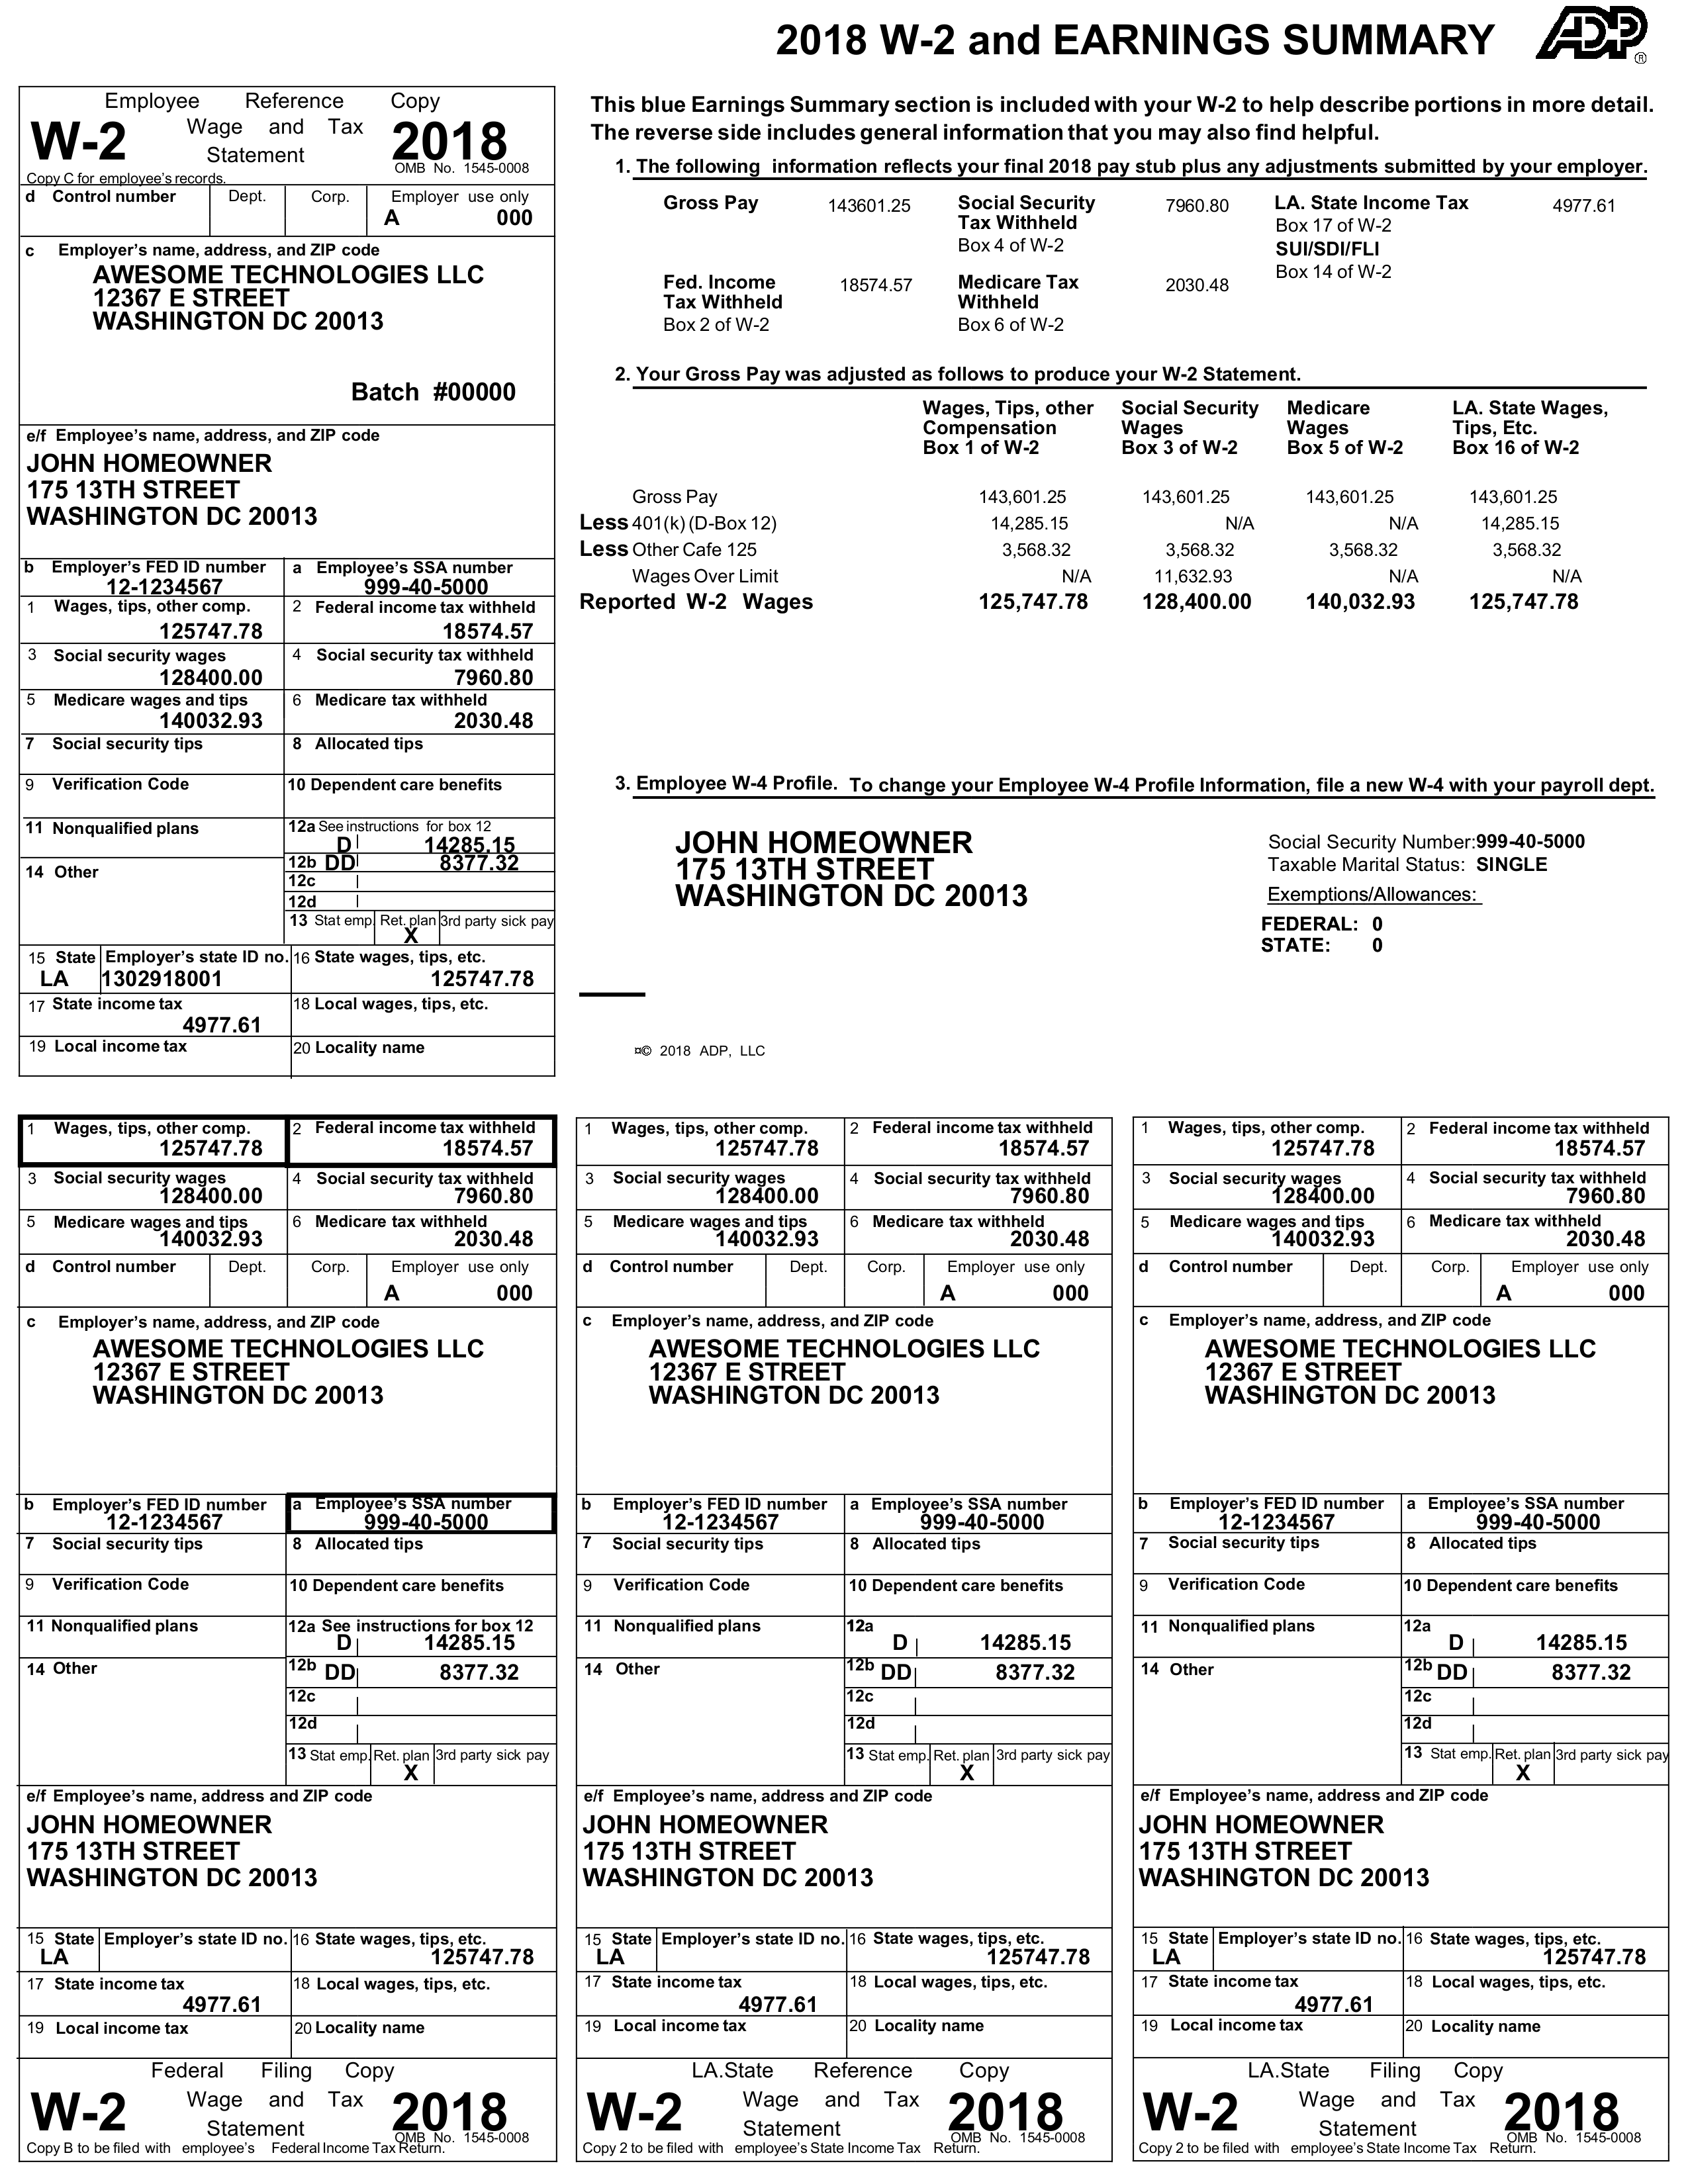table: (18, 1117, 557, 2161), (574, 1117, 1114, 2161), (1131, 1117, 1670, 2161), (18, 87, 553, 1076)
